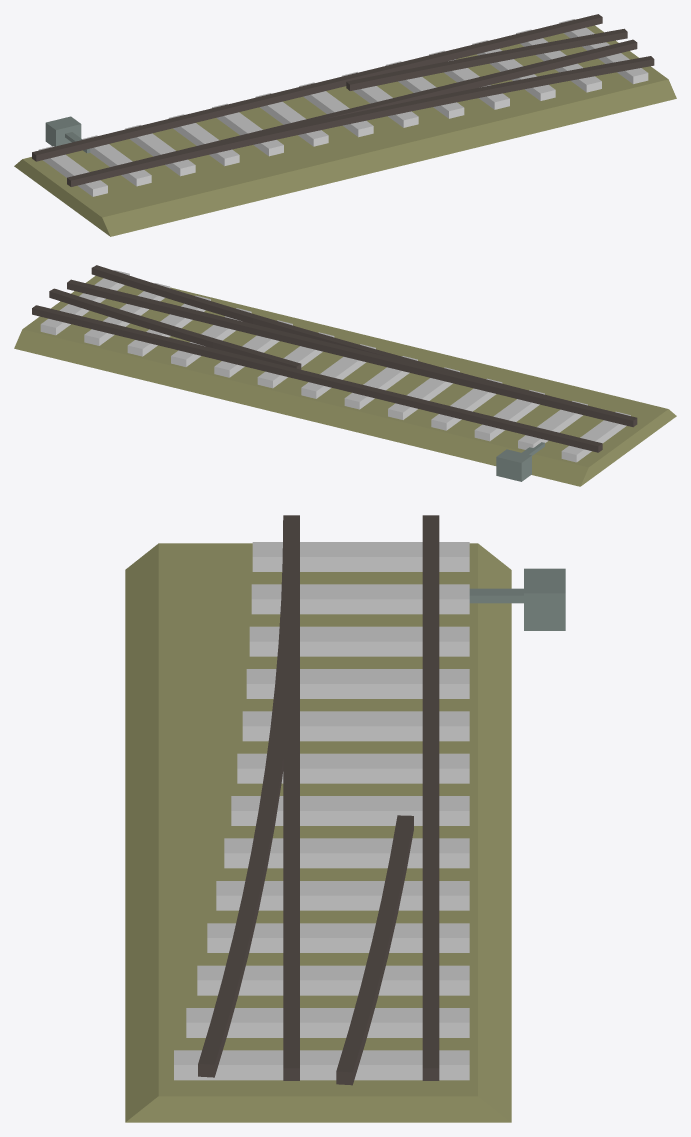
Rendered from SM_Via_DesvioDer_v0_Hormigon_LOD1.fbx.
3 renders of one model, top to bottom at view 1: azimuth 30°, elevation 25°; view 2: azimuth 150°, elevation 25°; view 3: azimuth 270°, elevation 25°, orthographic. The views are drawn at different scales.
Parts seen in each view (by area): view 1: SM_via_trazado_v30_LOD1; view 2: SM_via_trazado_v30_LOD1; view 3: SM_via_trazado_v30_LOD1.
Part boxes in pixels (box(x1,y1,x2,y2)): SM_via_trazado_v30_LOD1: box(14, 14, 676, 236); SM_via_trazado_v30_LOD1: box(14, 265, 676, 486); SM_via_trazado_v30_LOD1: box(125, 515, 565, 1122).
Bounding box in the file's own units: 15.79 × 0.721 × 5.28.
